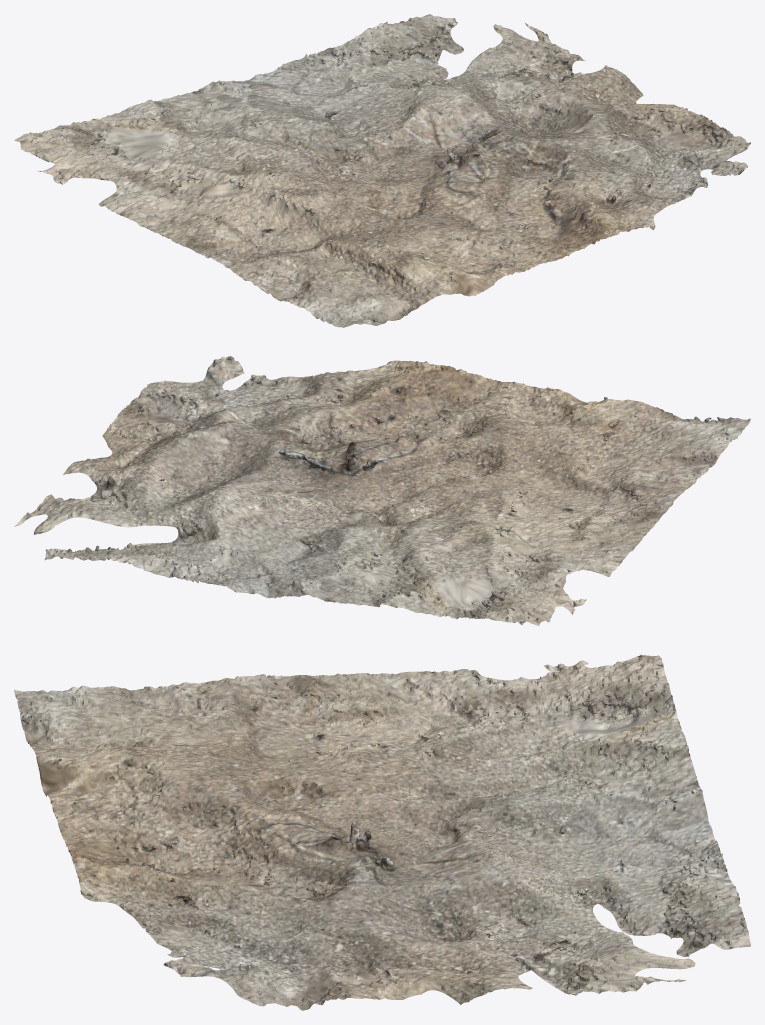
3 views of the same model, one above another, from view 1: azimuth 30°, elevation 25°; view 2: azimuth 150°, elevation 25°; view 3: azimuth 270°, elevation 25° (orthographic). The views are drawn at different scales.
Size of the model in its own units: 0.9306 by 0.0618 by 0.8725.
Materials: 1 (1 with a texture image).
